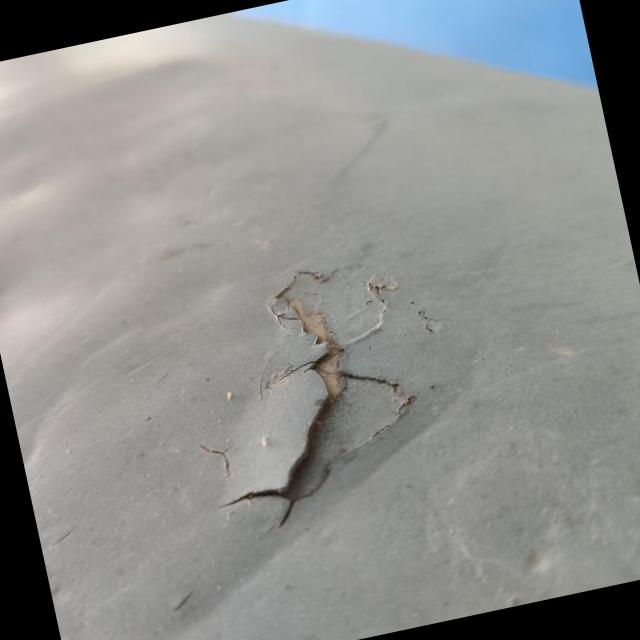Crack: (202, 271, 413, 531)
